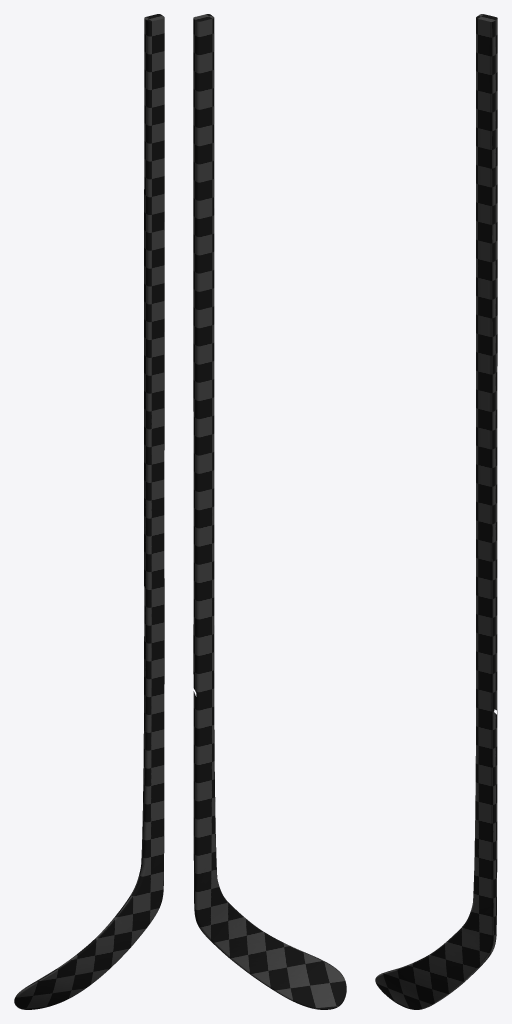
The picture shows the model from 3 angles, left to right: view 1: azimuth 30°, elevation 25°; view 2: azimuth 210°, elevation 25°; view 3: azimuth 330°, elevation 25°; orthographic projection. The views are drawn at different scales.
Parts seen in each view (by area): view 1: geometry_0; view 2: geometry_0; view 3: geometry_0.
Boxes of the visible parts, x1,y1,x2,y2 form: geometry_0: (14,14,164,1009); geometry_0: (193,14,346,1009); geometry_0: (375,14,497,1009).
Size of the model in its own units: 230 by 1650 by 78.18.
Materials: 1 (1 with a texture image).
